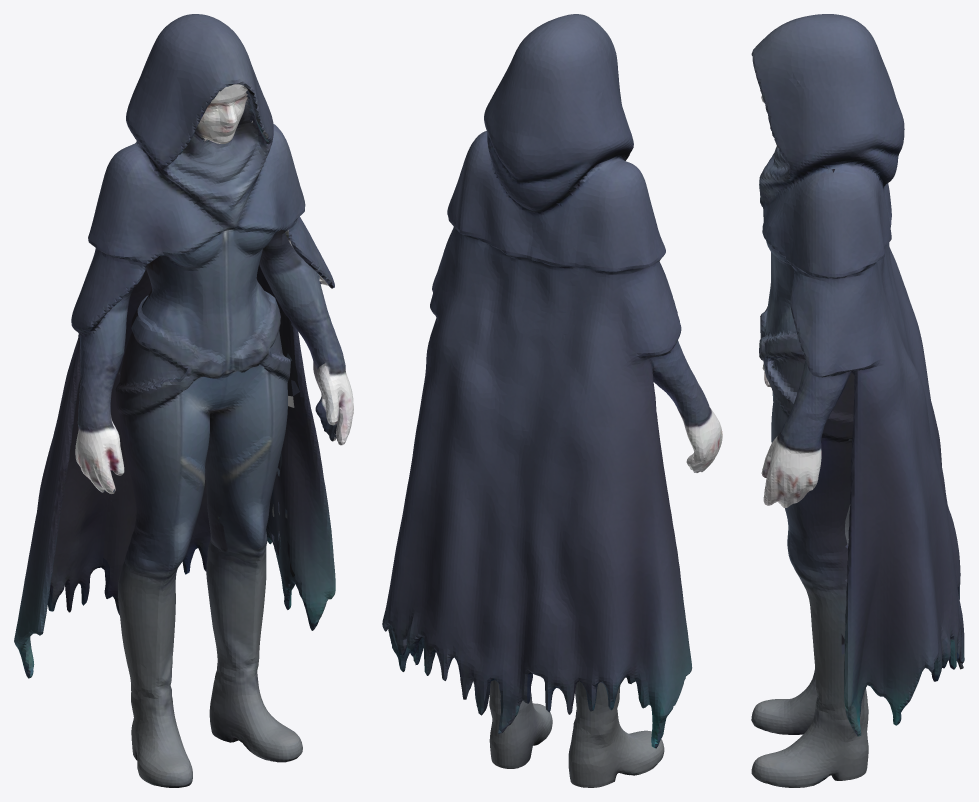
Rendered from vaska.glb.
3 renders of one model, left to right at view 1: azimuth 30°, elevation 25°; view 2: azimuth 150°, elevation 25°; view 3: azimuth 270°, elevation 25°, orthographic.
Parts seen in each view (by area): view 1: tmpvmnf5exm.ply; view 2: tmpvmnf5exm.ply; view 3: tmpvmnf5exm.ply.
Part boxes in pixels (x1=…): tmpvmnf5exm.ply: x1=14, y1=14, x2=353, y2=787; tmpvmnf5exm.ply: x1=382, y1=14, x2=722, y2=787; tmpvmnf5exm.ply: x1=751, y1=14, x2=964, y2=787.
Bounding box in the file's own units: 0.8331 × 1.99 × 0.5221.
Materials: 1 (1 with a texture image).
